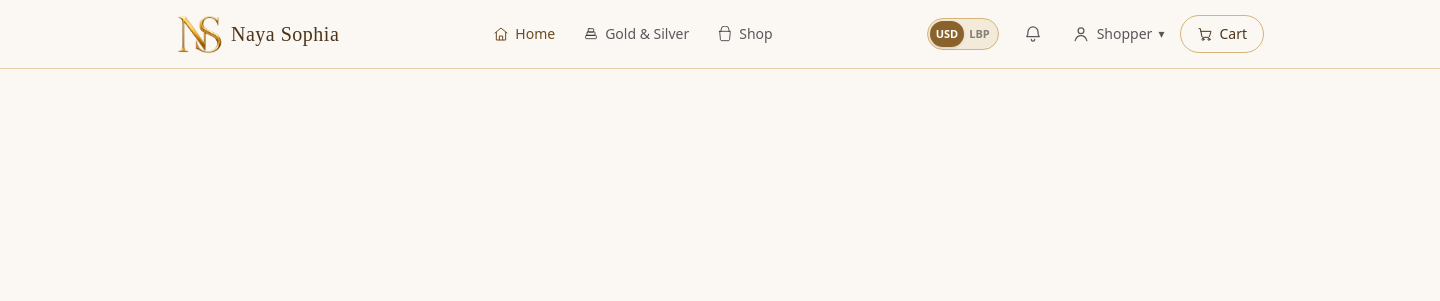
Navbar account menu › shows order history and wishlist links for a customer
Click the button "Shopper ▾".
click(1118, 34)  # box x1=1067 y1=12 x2=1168 y2=56
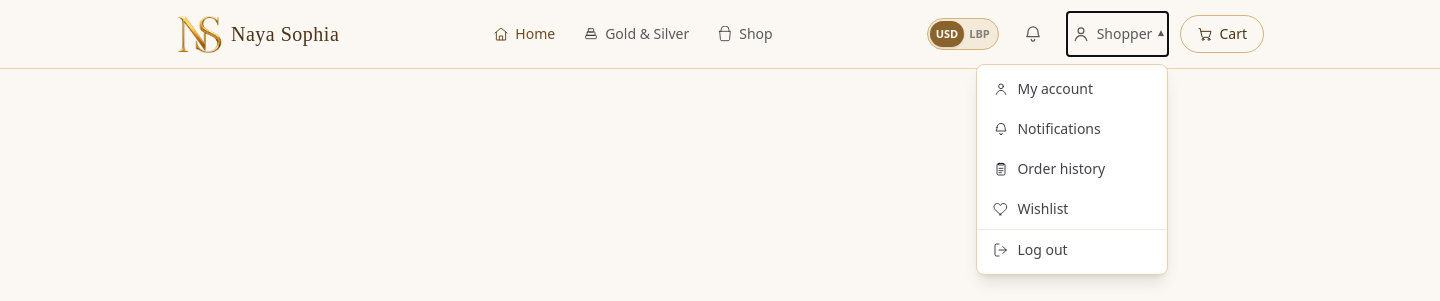
Result: the link "Order history" is shown at x1=993 y1=159 x2=1105 y2=178
Result: the link "Wishlist" is shown at x1=993 y1=199 x2=1068 y2=218
